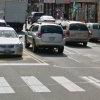Crosswalk: (2, 67, 94, 99)
